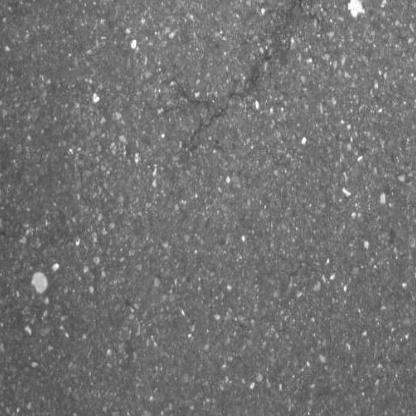Cracks: (161, 52, 278, 155), (285, 0, 340, 22)
